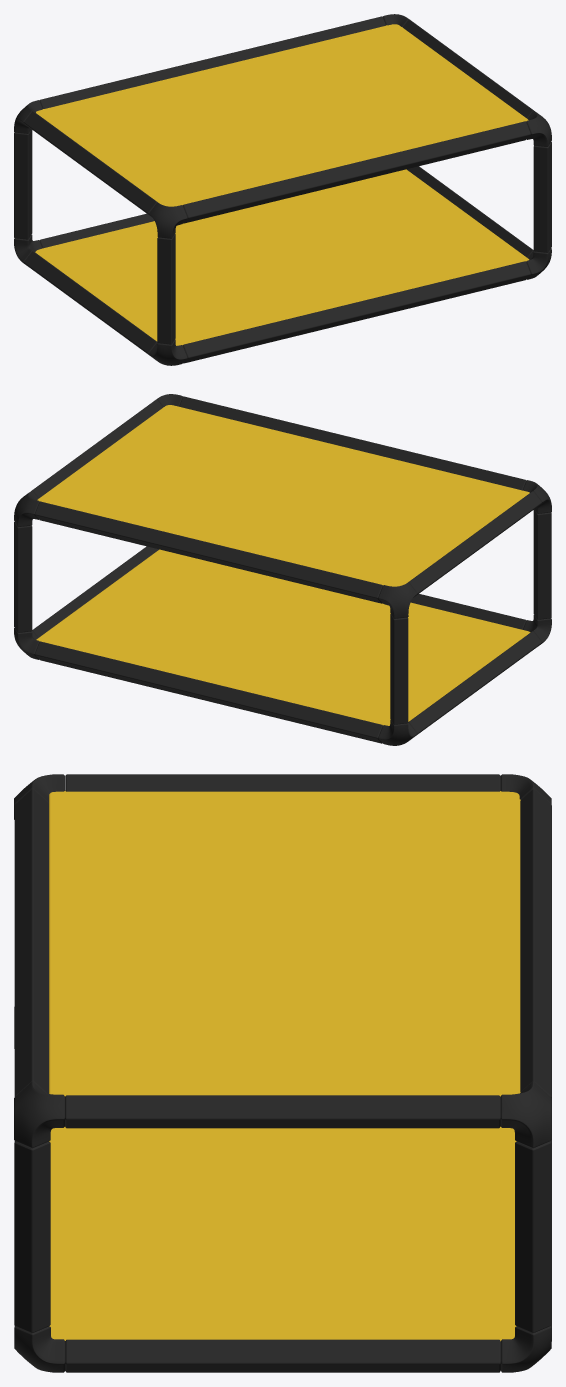
The picture shows the model from 3 angles, top to bottom: view 1: azimuth 30°, elevation 25°; view 2: azimuth 150°, elevation 25°; view 3: azimuth 270°, elevation 25°; orthographic projection. The views are drawn at different scales.
Visible parts, largest first — view 1: 523x329x154; view 2: 523x329x154; view 3: 523x329x154.
Boxes of the visible parts, <box> form: 523x329x154: <box>14,14,551,365</box>; 523x329x154: <box>14,394,551,745</box>; 523x329x154: <box>14,774,551,1372</box>.
Bounding box in the file's own units: 0.6007 × 0.2316 × 0.4063.
